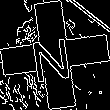N_N: (32, 27, 78, 83)
